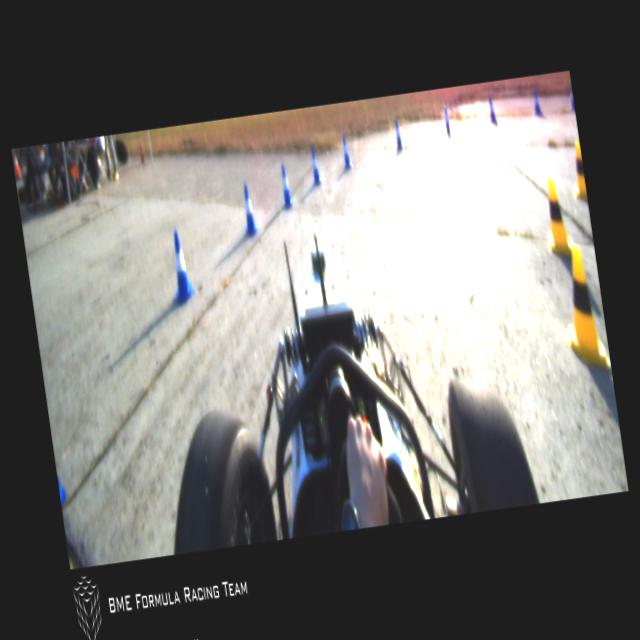blue_cone: (164, 230, 197, 306), (238, 182, 260, 239), (276, 163, 294, 210), (307, 146, 323, 186), (338, 134, 354, 170), (392, 118, 406, 152), (530, 88, 542, 116), (442, 105, 452, 136), (487, 96, 498, 124), (567, 83, 575, 111)
yellow_cone: (550, 242, 612, 374), (538, 174, 575, 260), (566, 140, 588, 200)
